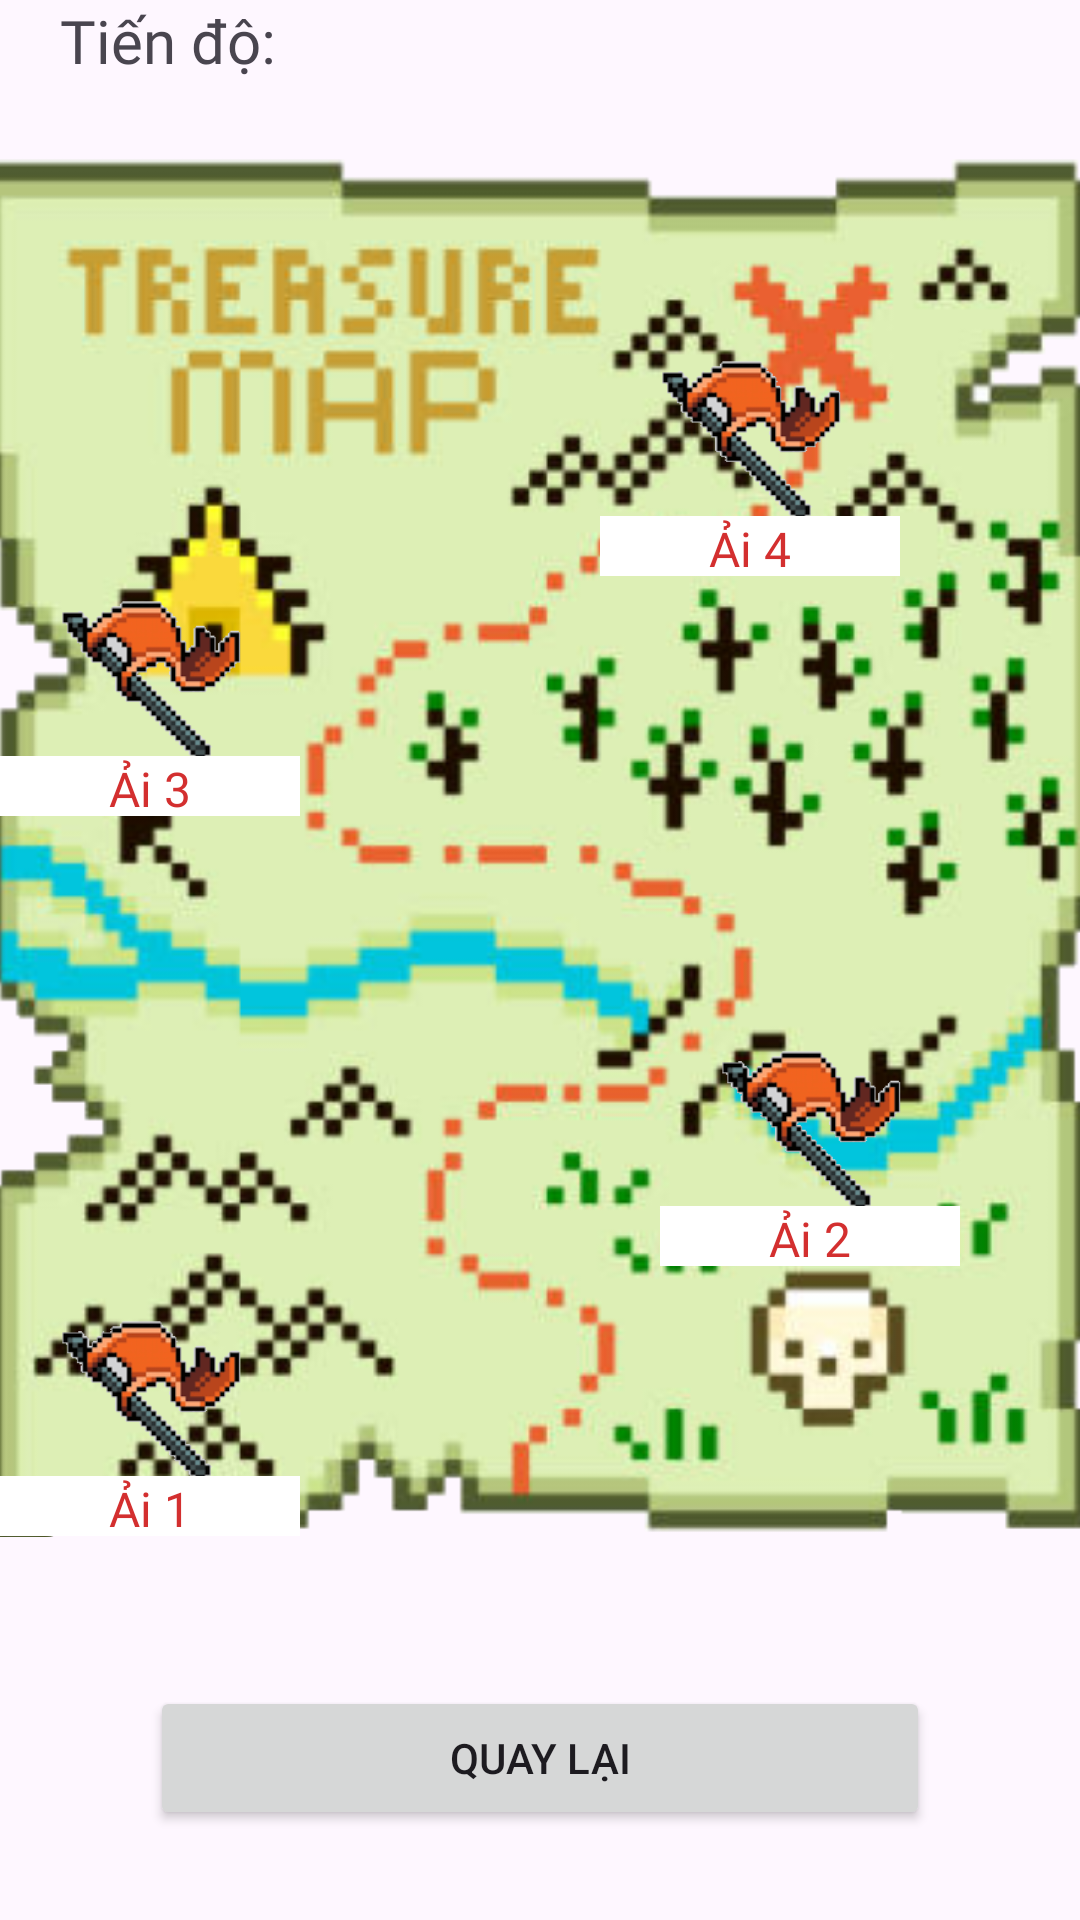

Point at icon controls on the screen. Image size 1080×1920, points as (x=x, y=y).
battel: (x=150, y=1398)
